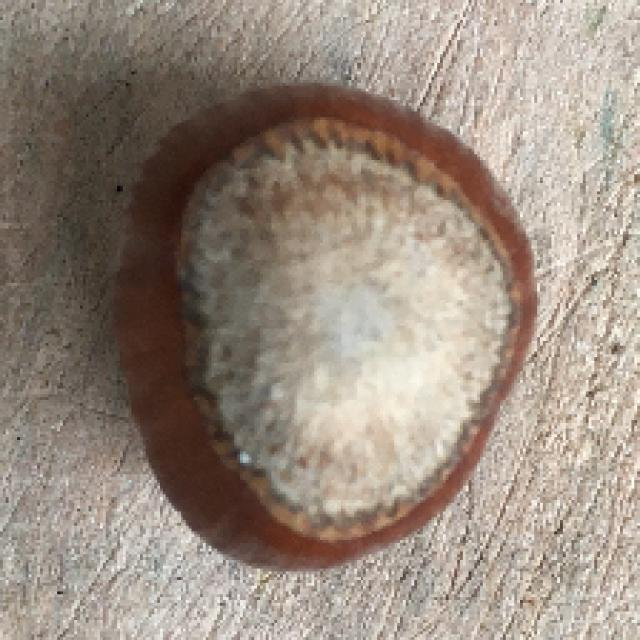qualityHazelnut: (99, 77, 545, 573)
